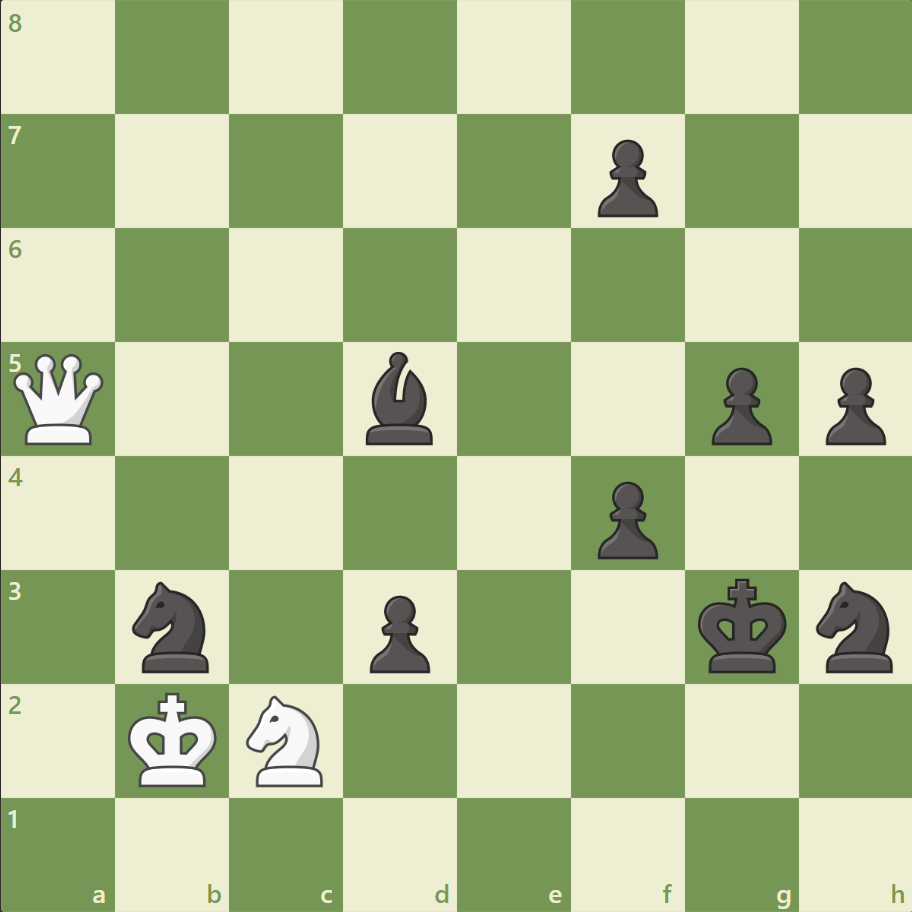K: (124, 685, 224, 793)
N: (238, 688, 335, 791)
Q: (10, 349, 109, 449)
b: (358, 347, 442, 449)
k: (692, 571, 792, 679)
n: (124, 575, 222, 677), (806, 575, 903, 677)
p: (701, 359, 776, 450), (588, 132, 662, 223), (815, 359, 889, 450), (588, 473, 662, 564), (361, 586, 435, 677)
